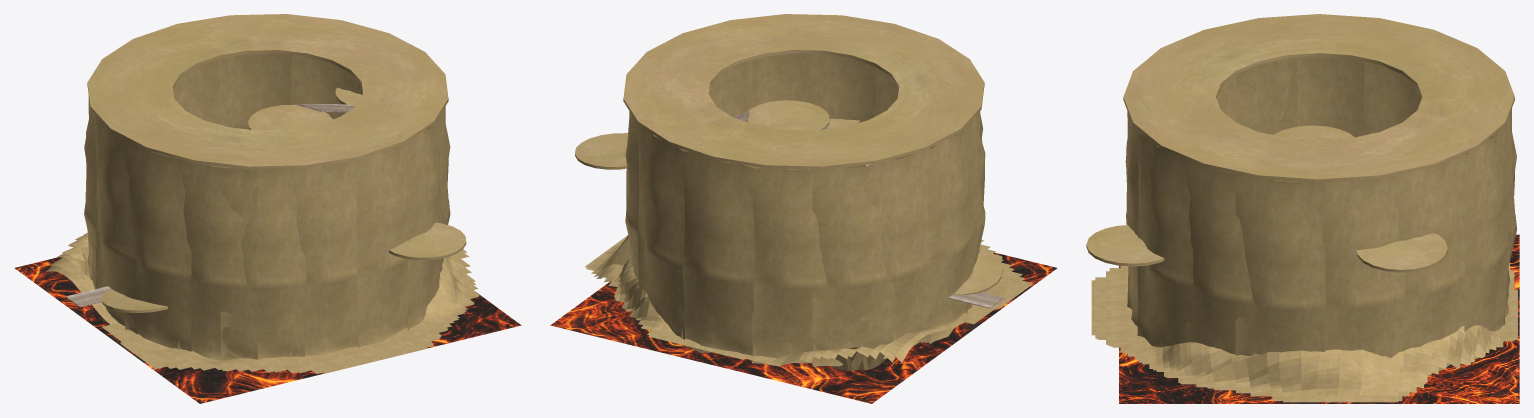
The model's file is submission1.fbx.
3 renders of one model, left to right at view 1: azimuth 30°, elevation 25°; view 2: azimuth 150°, elevation 25°; view 3: azimuth 270°, elevation 25°, orthographic. The views are drawn at different scales.
Visible parts, largest first — view 1: Ceiling, pPlane16, pPlane9, pPlane10, pPlane15, pPlane8, Lava1, pPlane14, pPlane7, pPlane2, pPlane3, pPlane1 (+13 smaller); view 2: Ceiling, pPlane1, pPlane12, pPlane11, Lava1, pPlane2, pPlane13, pPlane14, pPlane8, pPlane7, Platform4, pPlane6 (+15 smaller); view 3: Ceiling, pPlane5, pPlane4, pPlane7, pPlane3, pPlane6, Lava1, pPlane2, pPlane14, pPlane15, polySurface65, pPlane13 (+13 smaller).
Part boxes in pixels (x1,y1,x2,y2): Ceiling: (87, 14, 448, 169); pPlane16: (177, 160, 258, 360); pPlane9: (289, 158, 369, 357); pPlane10: (220, 168, 306, 360); pPlane15: (125, 141, 191, 351); pPlane8: (357, 136, 415, 348); Lava1: (14, 257, 521, 403); pPlane14: (95, 116, 137, 334); pPlane7: (407, 117, 442, 332); pPlane2: (219, 53, 291, 169); pPlane3: (291, 55, 362, 119); pPlane1: (153, 59, 219, 167); Ceiling: (623, 14, 984, 169); pPlane1: (681, 150, 755, 360); pPlane12: (812, 162, 894, 366); pPlane11: (752, 168, 830, 365); Lava1: (550, 252, 1057, 403); pPlane2: (637, 125, 685, 346); pPlane13: (860, 148, 933, 358); pPlane14: (928, 120, 974, 344); pPlane8: (809, 53, 876, 168); pPlane7: (748, 53, 809, 170); Platform4: (745, 100, 829, 130); pPlane6: (682, 58, 757, 168); Ceiling: (1123, 14, 1514, 182); pPlane5: (1235, 176, 1325, 355); pPlane4: (1314, 174, 1405, 357); pPlane7: (1137, 133, 1193, 347); pPlane3: (1395, 154, 1465, 375); pPlane6: (1185, 161, 1264, 356); Lava1: (1119, 234, 1519, 403); pPlane2: (1464, 125, 1508, 359); pPlane14: (1277, 56, 1370, 181); pPlane15: (1216, 58, 1297, 181); polySurface65: (1209, 346, 1340, 387); pPlane13: (1364, 61, 1414, 133).
Bounding box in the file's own units: 307 × 166 × 281.
